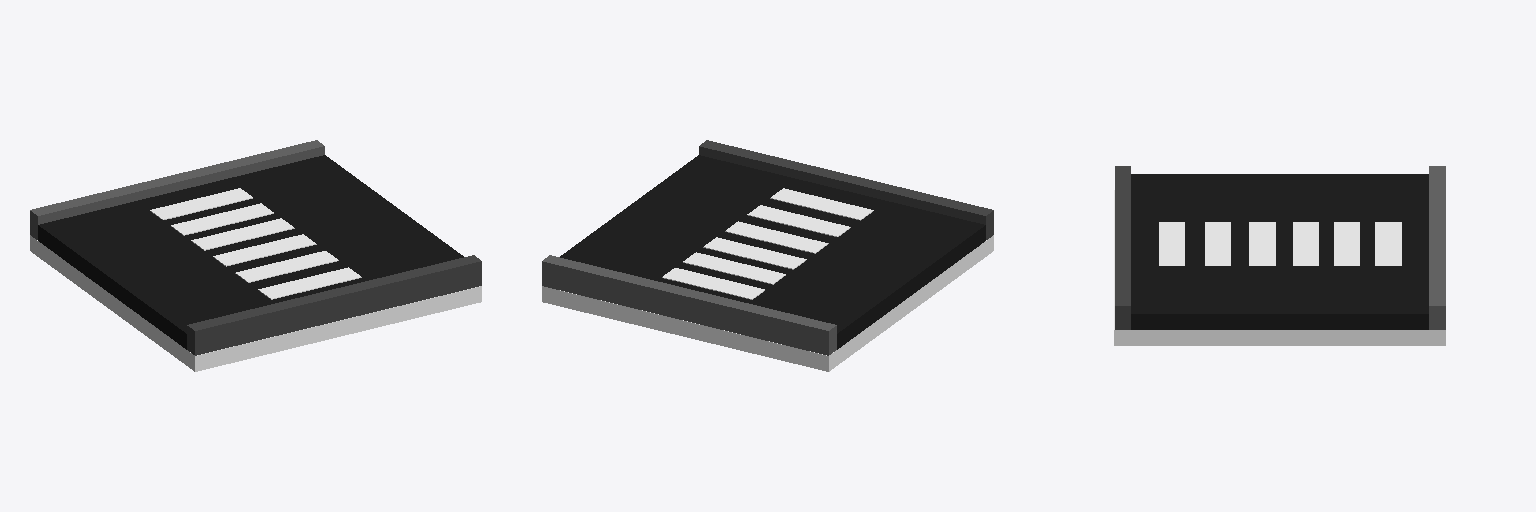
The model's file is road_crosswalknew.obj.
The picture shows the model from 3 angles: view 1: azimuth 30°, elevation 25°; view 2: azimuth 150°, elevation 25°; view 3: azimuth 270°, elevation 25°; orthographic projection.
Parts seen in each view (by area): view 1: Cube.003; view 2: Cube.003; view 3: Cube.003.
Boxes of the visible parts, <box> form: Cube.003: <box>30,140,481,371</box>; Cube.003: <box>542,140,993,371</box>; Cube.003: <box>1114,166,1445,345</box>.
Size of the model in its own units: 2 by 0.2716 by 2.